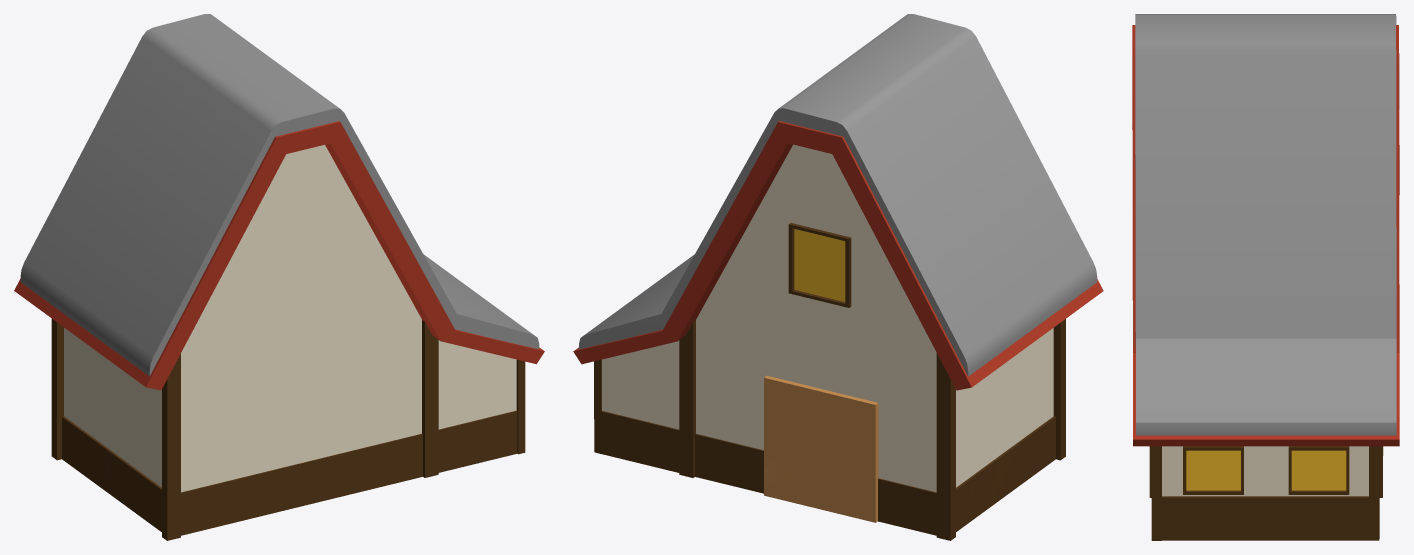
Rendered from hosue_1 1.fbx.
3 renders of one model, left to right at view 1: azimuth 30°, elevation 25°; view 2: azimuth 150°, elevation 25°; view 3: azimuth 270°, elevation 25°, orthographic.
Visible parts, largest first — view 1: Object006, Object065; view 2: Object006, Object065, Object051; view 3: Object065, Object006, Object051.
Boxes of the visible parts, x1,y1,x2,y2 form: Object006: [14, 121, 544, 540]; Object065: [20, 14, 539, 376]; Object006: [573, 121, 1103, 540]; Object065: [579, 14, 1097, 376]; Object051: [794, 229, 845, 301]; Object065: [1135, 14, 1396, 435]; Object006: [1132, 25, 1399, 540]; Object051: [1186, 450, 1346, 490].
Bounding box in the file's own units: 734 × 701 × 422.
